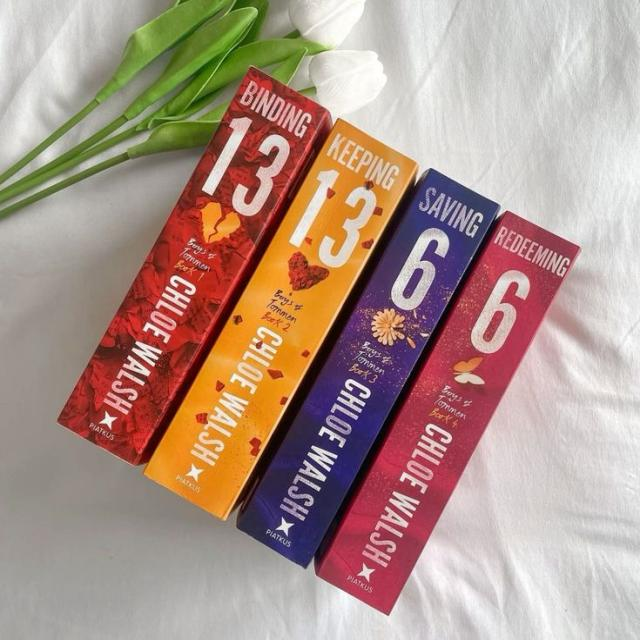book: (58, 69, 332, 463), (145, 119, 415, 518), (316, 212, 578, 613), (237, 169, 498, 566)
flowers: (0, 0, 386, 218)
